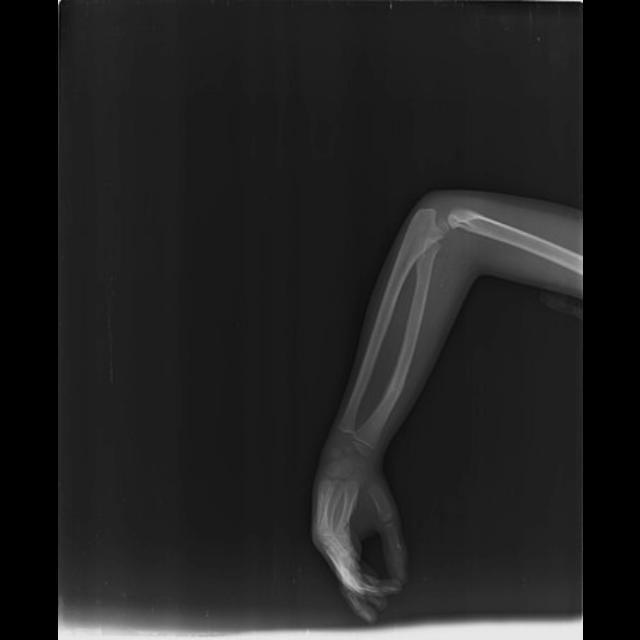Fracture: (381, 369, 410, 403)
